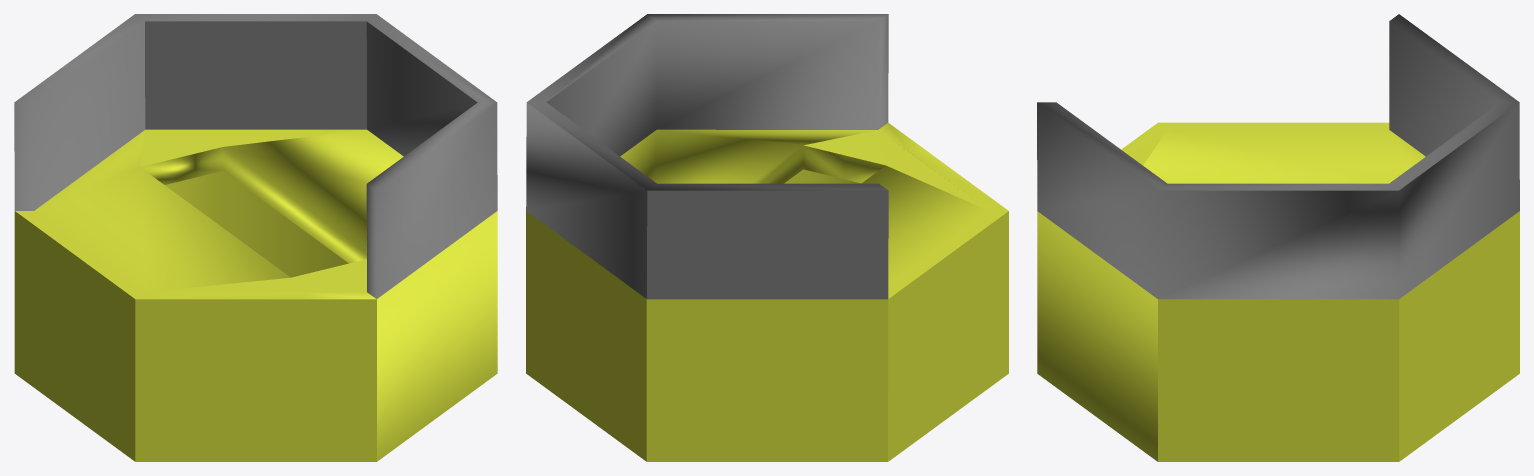
The model's file is ResourceTileStage2_2.fbx.
3 renders of one model, left to right at view 1: azimuth 30°, elevation 25°; view 2: azimuth 150°, elevation 25°; view 3: azimuth 270°, elevation 25°, orthographic.
Parts seen in each view (by area): view 1: ResourceTileStage2_2; view 2: ResourceTileStage2_2; view 3: ResourceTileStage2_2.
Part boxes in pixels (box(x1,y1,x2,y2)): ResourceTileStage2_2: box(14, 14, 497, 461); ResourceTileStage2_2: box(526, 14, 1008, 461); ResourceTileStage2_2: box(1037, 14, 1519, 461).
Size of the model in its own units: 173 by 124 by 200.
